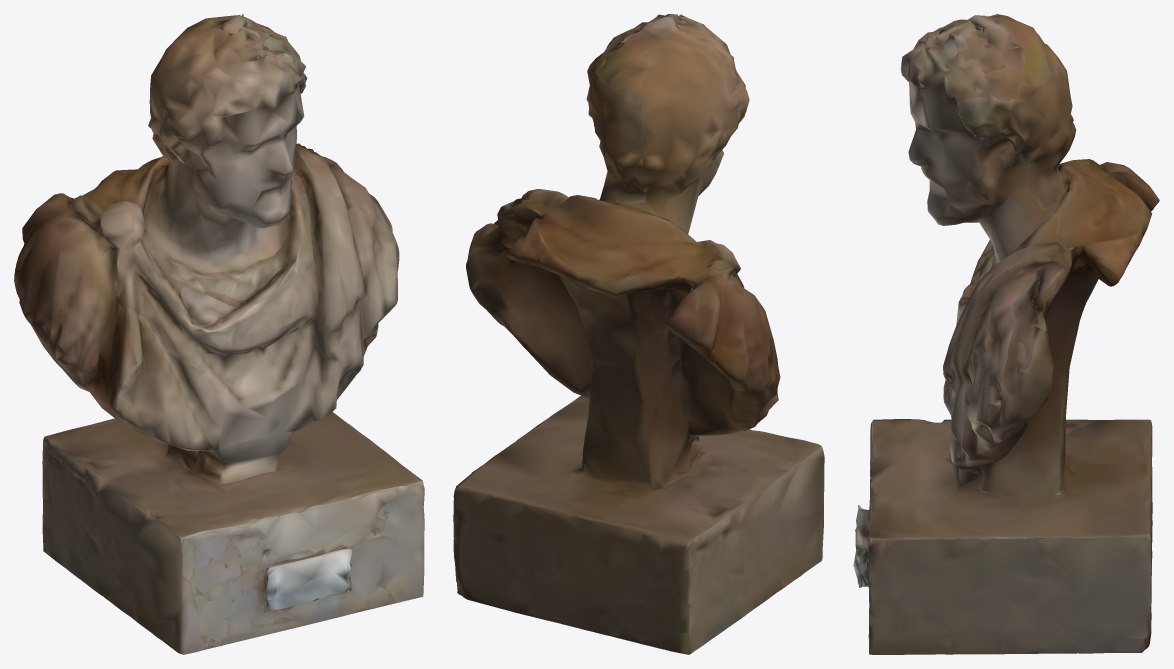
File: bust.glb
3 views of the same model, side by side, from view 1: azimuth 30°, elevation 25°; view 2: azimuth 150°, elevation 25°; view 3: azimuth 270°, elevation 25° (orthographic). The views are drawn at different scales.
Parts seen in each view (by area): view 1: Object_2; view 2: Object_2; view 3: Object_2.
Part boxes in pixels (x1,y1,x2,y2): Object_2: (14,14,424,654); Object_2: (453,14,824,654); Object_2: (853,14,1159,654).
Size of the model in its own units: 0.6283 by 1.01 by 0.4886.
Materials: 1 (1 with a texture image).
